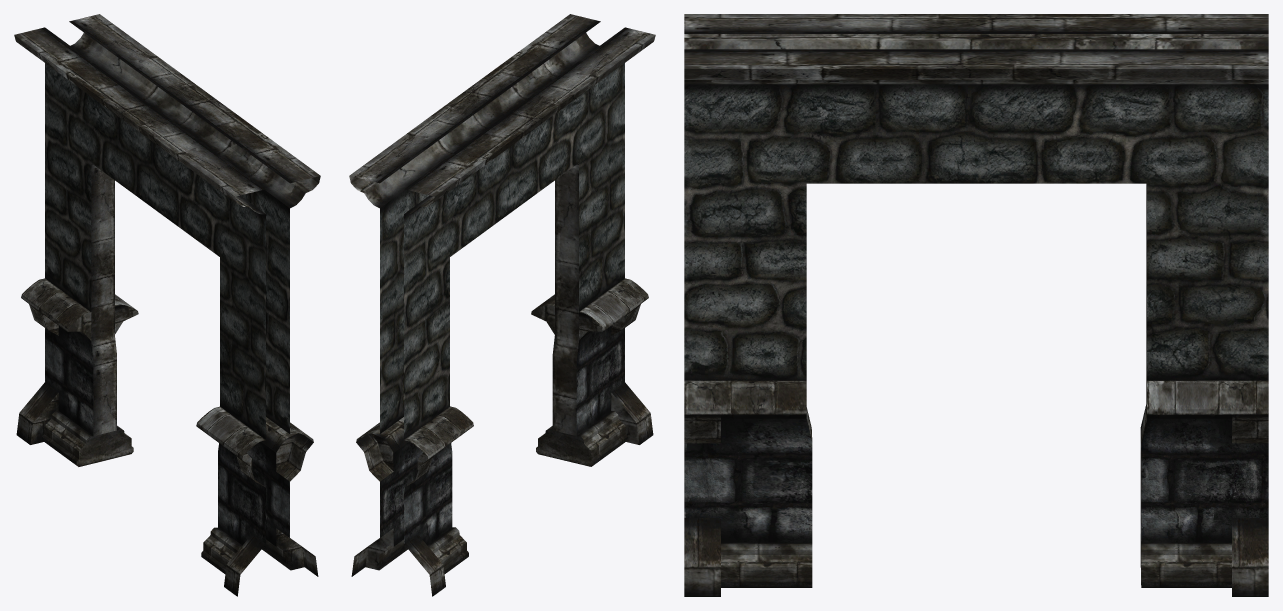
The model's file is door_way_secret.dae.
3 views of the same model, side by side, from view 1: azimuth 30°, elevation 25°; view 2: azimuth 150°, elevation 25°; view 3: azimuth 270°, elevation 25° (orthographic). The views are drawn at different scales.
Parts seen in each view (by area): view 1: polySurface125; view 2: polySurface125; view 3: polySurface125.
Boxes of the visible parts, x1=… form: polySurface125: x1=14, y1=14, x2=320, y2=596; polySurface125: x1=349, y1=14, x2=655, y2=596; polySurface125: x1=684, y1=14, x2=1268, y2=596.
Bounding box in the file's own units: 0.8938 × 4 × 4.
Materials: 1 (1 with a texture image).
